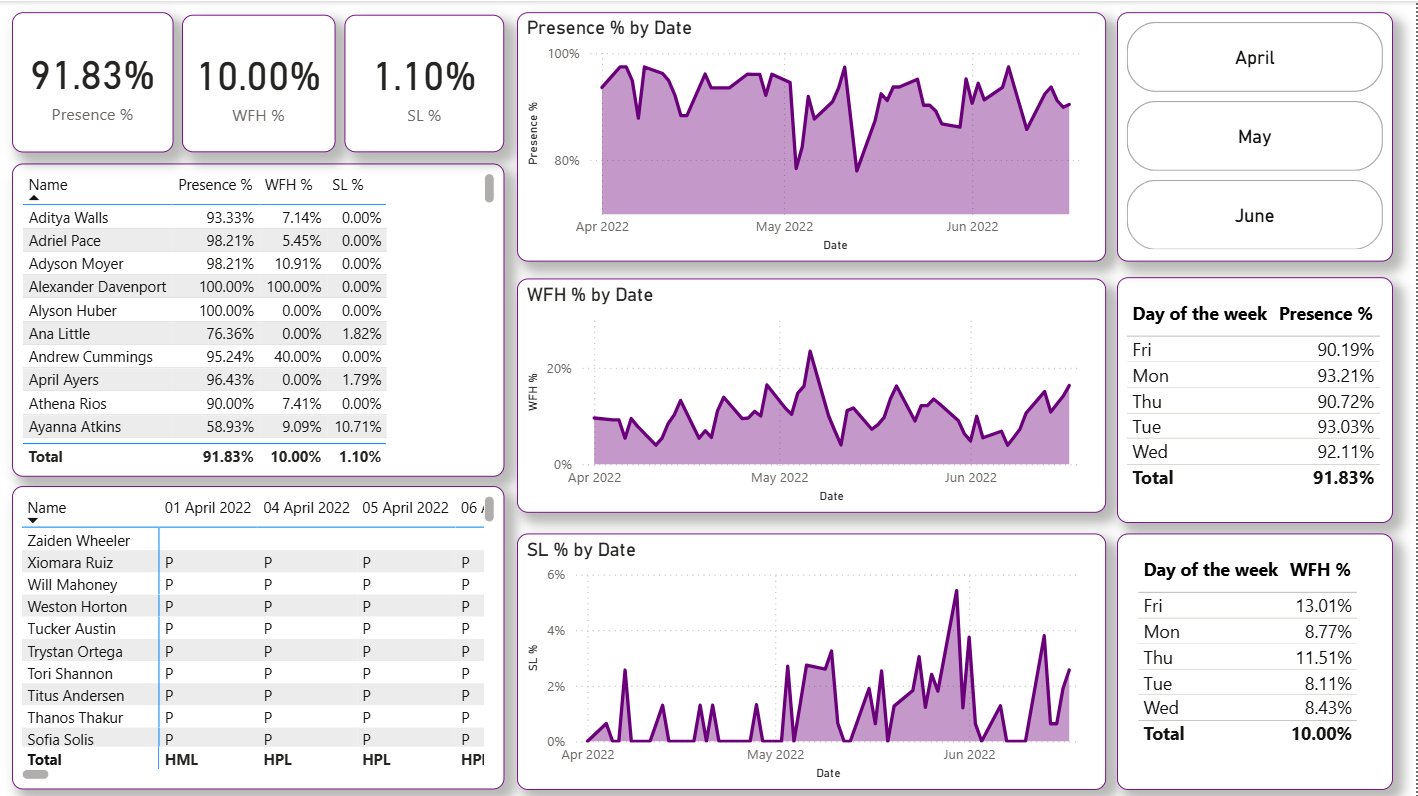

The page's visual inventory and layout, read from the dashboard file:
{"tool":"powerbi","page":{"name":"Presence Insights1","canvas":[1280,720],"ordinal":0},"visuals":[{"type":"tableEx","fields":{"Values":["Final Data.Name","Measure Table.Presence %","Measure Table.WFH %","Measure Table.SL %"]},"box":[13.7,146.8,444.1,282.4],"z":0},{"type":"pivotTable","fields":{"Rows":["Final Data.Name"],"Columns":["Final Data.Date"],"Values":["Min(Final Data.Attendence)"]},"box":[13.7,437.9,444.1,273.7],"z":1000},{"type":"card","fields":{"Values":["Measure Table.Presence %"]},"box":[13.5,10.1,145.4,126.2],"z":2000},{"type":"card","fields":{"Values":["Measure Table.WFH %"]},"box":[166.7,12.4,138.1,124.4],"z":3000},{"type":"card","fields":{"Values":["Measure Table.SL %"]},"box":[313.3,12.4,144.3,124],"z":4000},{"type":"areaChart","fields":{"Y":["Measure Table.Presence %"],"Category":["Final Data.Date"]},"box":[469,10,531.2,225.2],"z":5000},{"type":"areaChart","fields":{"Y":["Measure Table.WFH %"],"Category":["Final Data.Date"]},"box":[469,250,531.2,211.5],"z":6000},{"type":"areaChart","fields":{"Category":["Final Data.Date"],"Y":["Measure Table.SL %"]},"box":[469,480.2,531.2,231.4],"z":7000},{"type":"tableEx","fields":{"Values":["Final Data.Day of the week","Measure Table.Presence %"]},"box":[1010.1,248.8,248.8,221.4],"z":8000},{"type":"tableEx","fields":{"Values":["Final Data.Day of the week","Measure Table.WFH %"]},"box":[1010.1,480.2,248.8,231.4],"z":9000},{"type":"advancedSlicerVisual","fields":{"Values":["Final Data.Month 2"]},"box":[1010,10,249,225],"z":10000}]}

Visuals, with their boxes in screenshot pixels (x1, y1, x2, y2), scaled from the page's 1280x720 canvas onto the 1418x796 screenshot:
tableEx - Final Data.Name x Measure Table.Presence %: x1=15 y1=162 x2=507 y2=475
pivotTable - Final Data.Name x Final Data.Date: x1=15 y1=484 x2=507 y2=787
card - Measure Table.Presence %: x1=15 y1=11 x2=176 y2=151
card - Measure Table.WFH %: x1=185 y1=14 x2=338 y2=151
card - Measure Table.SL %: x1=347 y1=14 x2=507 y2=151
areaChart - Measure Table.Presence % x Final Data.Date: x1=520 y1=11 x2=1108 y2=260
areaChart - Measure Table.WFH % x Final Data.Date: x1=520 y1=276 x2=1108 y2=510
areaChart - Final Data.Date x Measure Table.SL %: x1=520 y1=531 x2=1108 y2=787
tableEx - Final Data.Day of the week x Measure Table.Presence %: x1=1119 y1=275 x2=1395 y2=520
tableEx - Final Data.Day of the week x Measure Table.WFH %: x1=1119 y1=531 x2=1395 y2=787
advancedSlicerVisual - Final Data.Month 2: x1=1119 y1=11 x2=1395 y2=260
